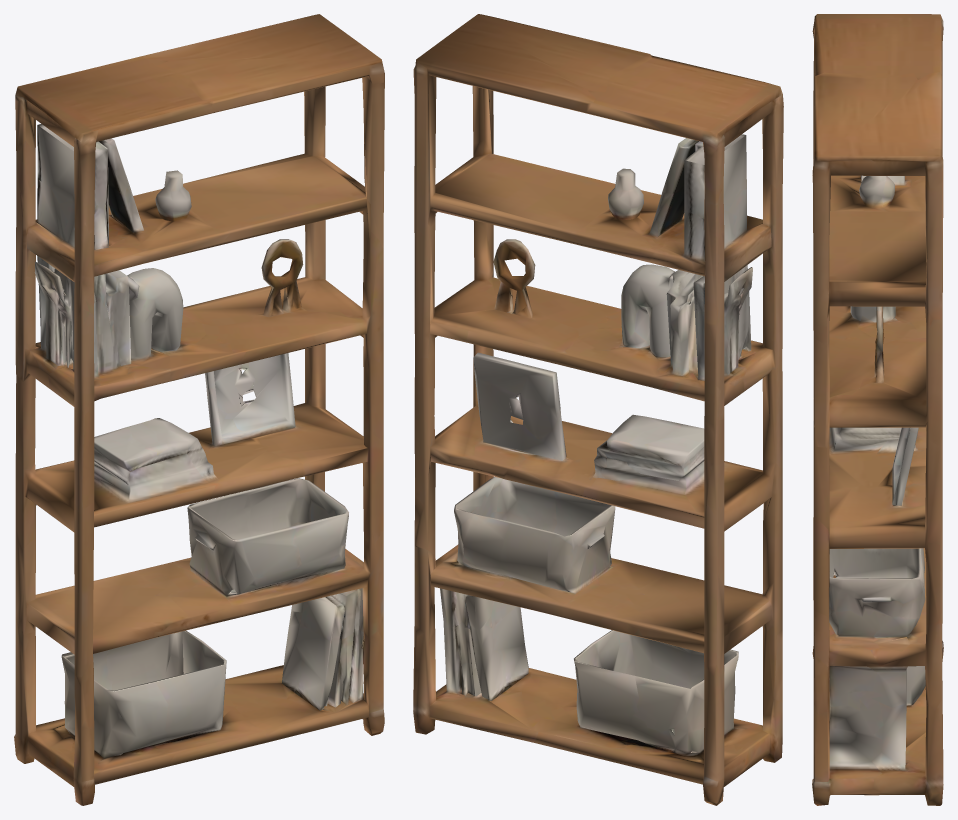
The model's file is bookcase.c79a80c1.glb.
3 renders of one model, left to right at view 1: azimuth 30°, elevation 25°; view 2: azimuth 150°, elevation 25°; view 3: azimuth 270°, elevation 25°, orthographic. The views are drawn at different scales.
Visible parts, largest first — view 1: tripo_node_c1efba79-0d80-4b50-b9c6-31551173b9a5; view 2: tripo_node_c1efba79-0d80-4b50-b9c6-31551173b9a5; view 3: tripo_node_c1efba79-0d80-4b50-b9c6-31551173b9a5.
Boxes of the visible parts, <box> form: tripo_node_c1efba79-0d80-4b50-b9c6-31551173b9a5: <box>14,14,384,805</box>; tripo_node_c1efba79-0d80-4b50-b9c6-31551173b9a5: <box>413,14,783,805</box>; tripo_node_c1efba79-0d80-4b50-b9c6-31551173b9a5: <box>812,14,943,805</box>.
Size of the model in its own units: 0.8986 by 1.9 by 0.3487.
1 material, 1 textured.
